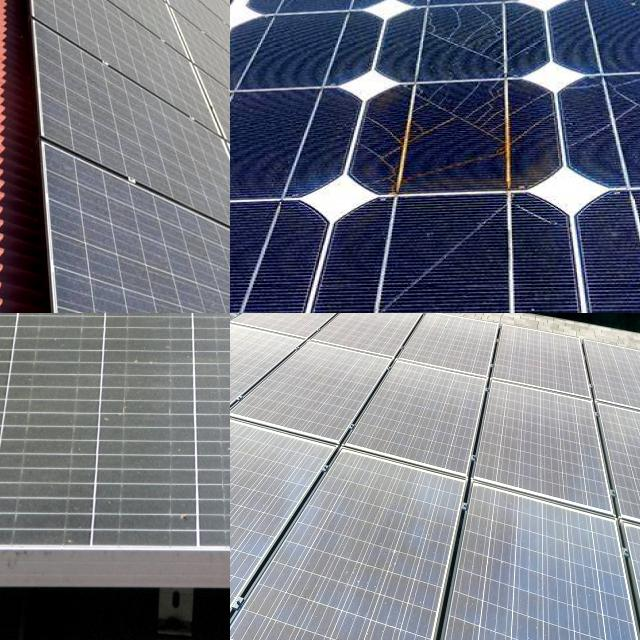crack: (0, 313, 230, 640)
dust: (44, 142, 186, 313), (48, 0, 161, 133), (517, 532, 604, 640), (326, 537, 406, 627), (30, 0, 130, 58), (194, 209, 230, 313), (169, 0, 230, 61), (209, 74, 230, 193)
shadow: (358, 44, 553, 218)
